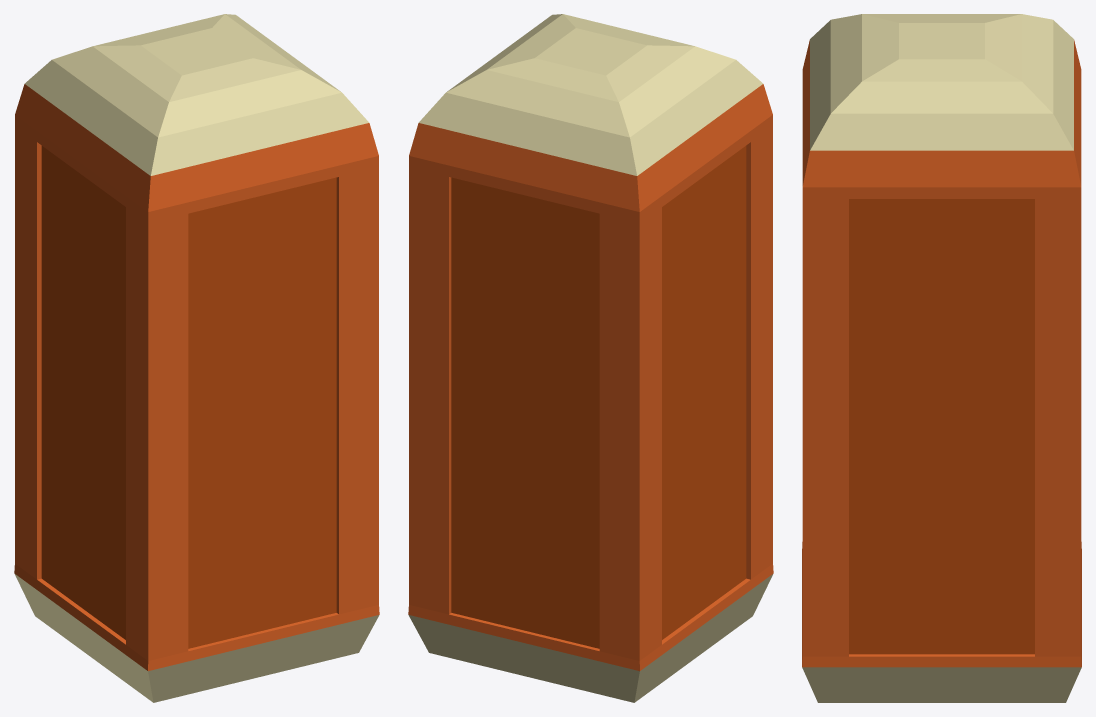
3 renders of one model, left to right at view 1: azimuth 30°, elevation 25°; view 2: azimuth 150°, elevation 25°; view 3: azimuth 270°, elevation 25°, orthographic. The views are drawn at different scales.
Parts seen in each view (by area): view 1: G-16; view 2: G-16; view 3: G-16.
Boxes of the visible parts, x1=… form: G-16: x1=14, y1=14, x2=379, y2=702; G-16: x1=408, y1=14, x2=773, y2=702; G-16: x1=802, y1=14, x2=1081, y2=702.
Bounding box in the file's own units: 278 × 668 × 278.
